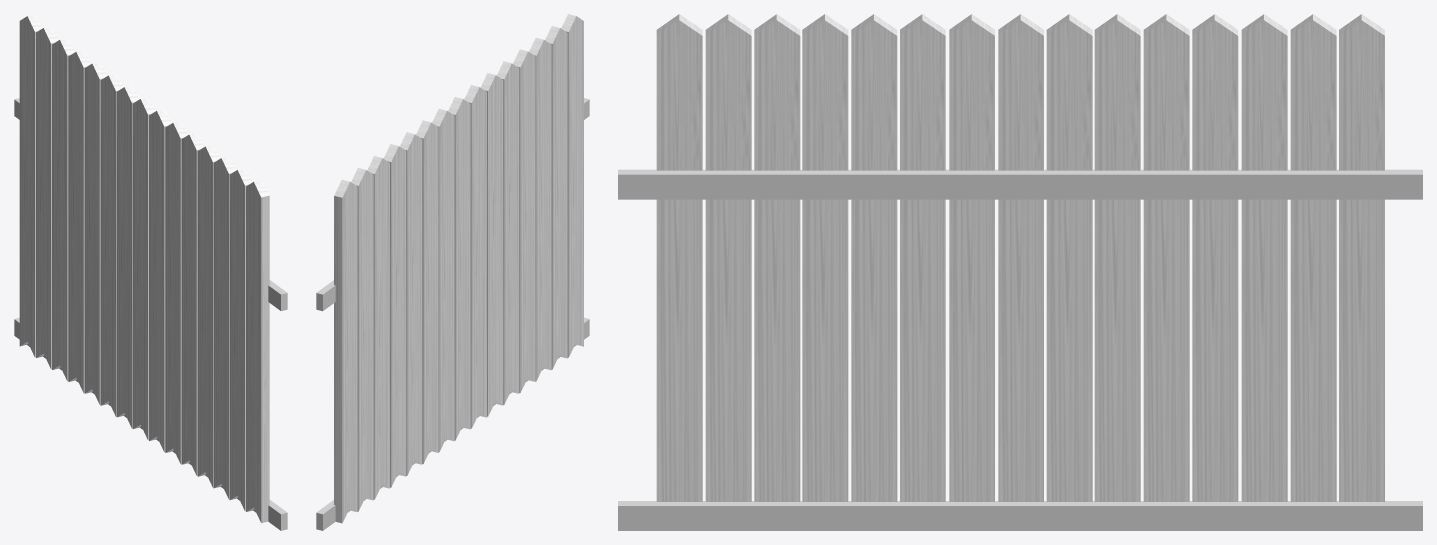
Rendered from wall.fbx.
3 views of the same model, side by side, from view 1: azimuth 30°, elevation 25°; view 2: azimuth 150°, elevation 25°; view 3: azimuth 270°, elevation 25° (orthographic). The views are drawn at different scales.
Parts seen in each view (by area): view 1: Cube.039, Cube.035, Cube.032, Cube.028, Cube.026, Cube.013, Cube.038, Cube.037, Cube.030, Cube.036, Cube.034, Cube.033 (+5 smaller); view 2: Cube.026, Cube.036, Cube.031, Cube.039, Cube.038, Cube.033, Cube.028, Cube.014, Cube.013, Cube.034, Cube.029, Cube.035 (+5 smaller); view 3: Cube.018, Cube.027, Cube.014, Cube.013, Cube.039, Cube.038, Cube.037, Cube.035, Cube.034, Cube.031, Cube.030, Cube.033 (+5 smaller).
Part boxes in pixels (bbox=[...]): Cube.039: bbox=[246, 179, 269, 523]; Cube.035: bbox=[181, 132, 204, 475]; Cube.032: bbox=[84, 61, 107, 404]; Cube.028: bbox=[149, 108, 171, 452]; Cube.026: bbox=[19, 14, 42, 357]; Cube.013: bbox=[52, 38, 74, 381]; Cube.038: bbox=[229, 168, 252, 511]; Cube.037: bbox=[213, 156, 236, 499]; Cube.030: bbox=[116, 85, 139, 428]; Cube.036: bbox=[165, 120, 187, 463]; Cube.034: bbox=[197, 144, 220, 487]; Cube.033: bbox=[100, 73, 123, 416]; Cube.026: bbox=[334, 179, 357, 523]; Cube.036: bbox=[480, 73, 503, 416]; Cube.031: bbox=[383, 144, 406, 487]; Cube.039: bbox=[561, 14, 583, 357]; Cube.038: bbox=[545, 26, 567, 369]; Cube.033: bbox=[416, 120, 438, 463]; Cube.028: bbox=[464, 85, 486, 428]; Cube.014: bbox=[351, 168, 373, 511]; Cube.013: bbox=[367, 156, 389, 499]; Cube.034: bbox=[513, 49, 535, 392]; Cube.029: bbox=[448, 97, 470, 440]; Cube.035: bbox=[497, 61, 519, 404]; Cube.018: bbox=[618, 169, 1422, 199]; Cube.027: bbox=[618, 501, 1422, 530]; Cube.014: bbox=[1290, 14, 1336, 501]; Cube.013: bbox=[1241, 14, 1287, 501]; Cube.039: bbox=[656, 14, 702, 501]; Cube.038: bbox=[705, 14, 751, 501]; Cube.037: bbox=[754, 14, 800, 501]; Cube.035: bbox=[851, 14, 897, 501]; Cube.034: bbox=[802, 14, 848, 501]; Cube.031: bbox=[1192, 14, 1238, 501]; Cube.030: bbox=[1046, 14, 1092, 501]; Cube.033: bbox=[1094, 14, 1140, 501].
Bounding box in the file's own units: 9.06 × 212 × 304.
5 materials, 5 textured.
